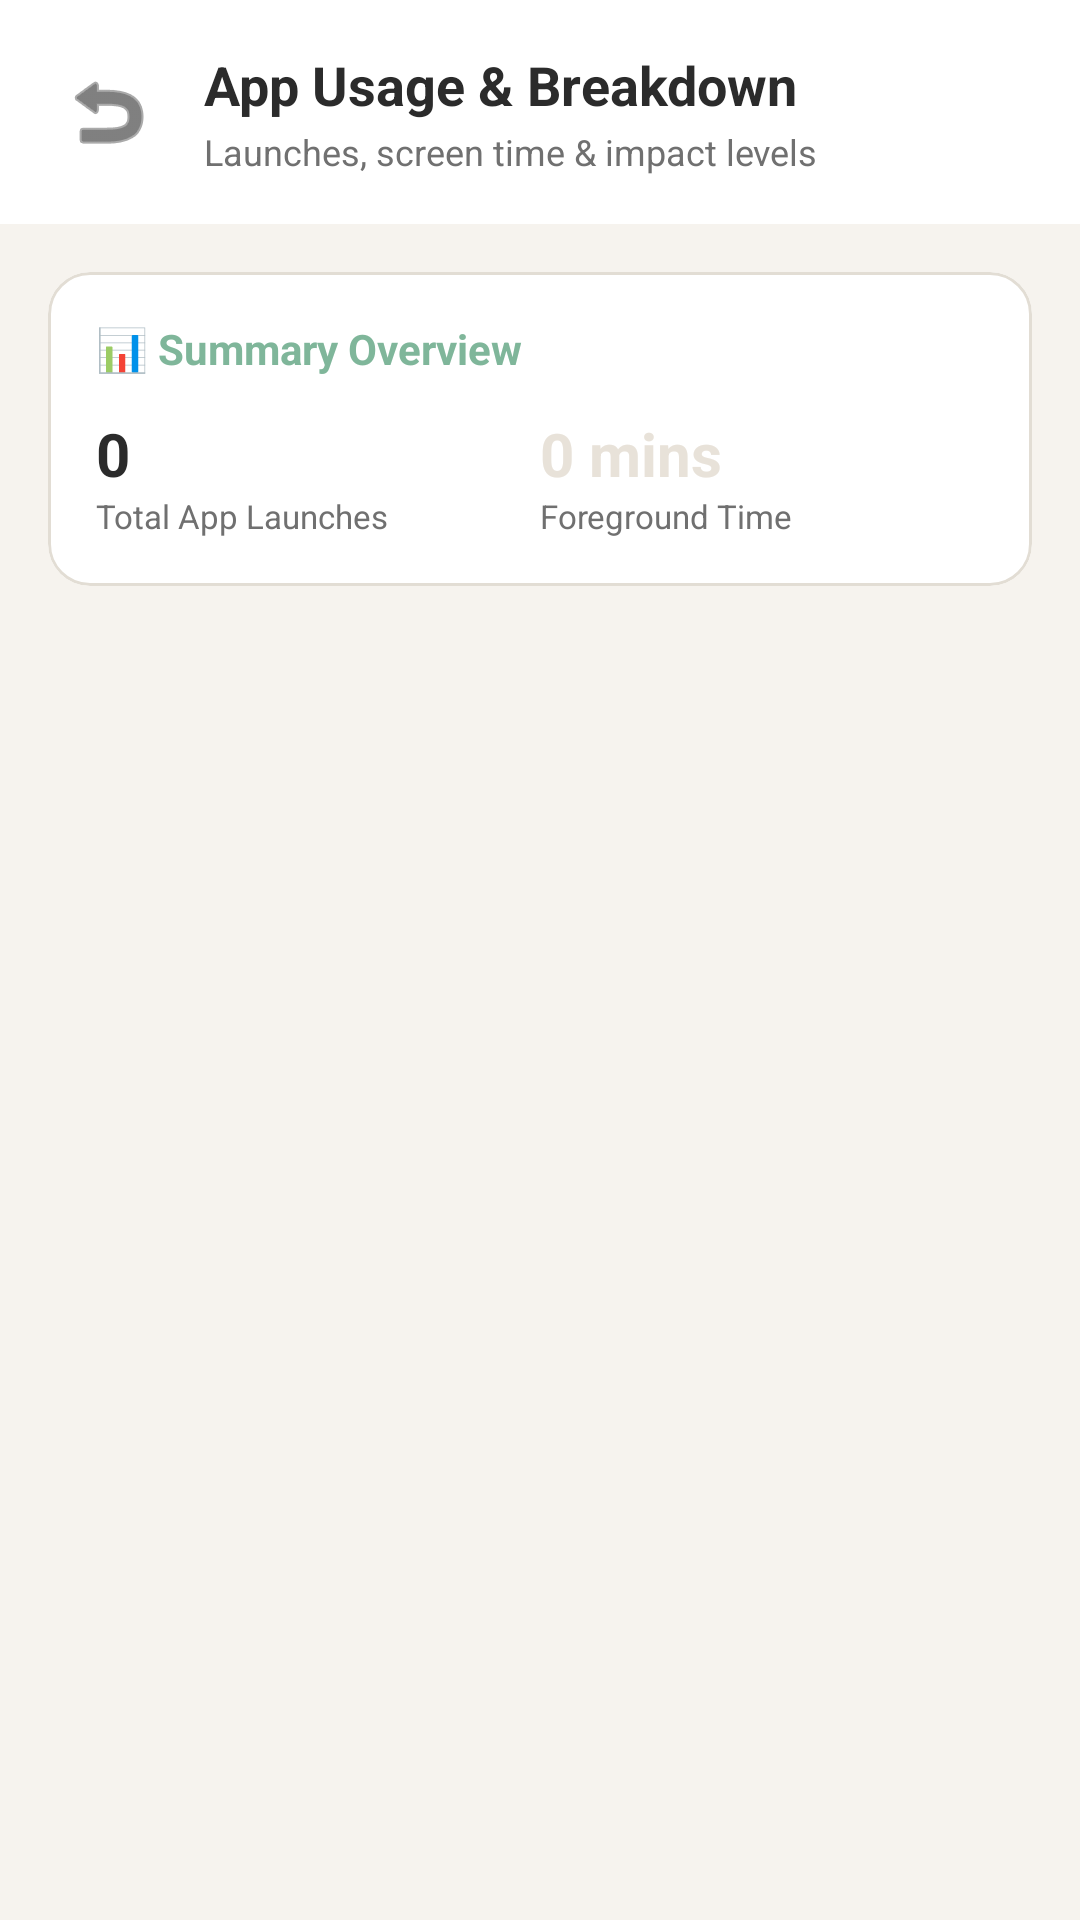

Named icons in this screenshot (1080 x 1920) and their bounding boxes, (x1, y1, x2, y2):
Back: (75, 81, 144, 144)
